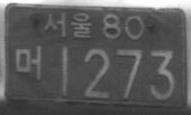0: (123, 13, 146, 41)
1: (51, 44, 76, 97)
2: (82, 46, 111, 100)
3: (148, 48, 176, 101)
7: (114, 46, 144, 100)
8: (100, 12, 122, 40)
머: (15, 43, 43, 81)
서울_O: (44, 11, 93, 38)
